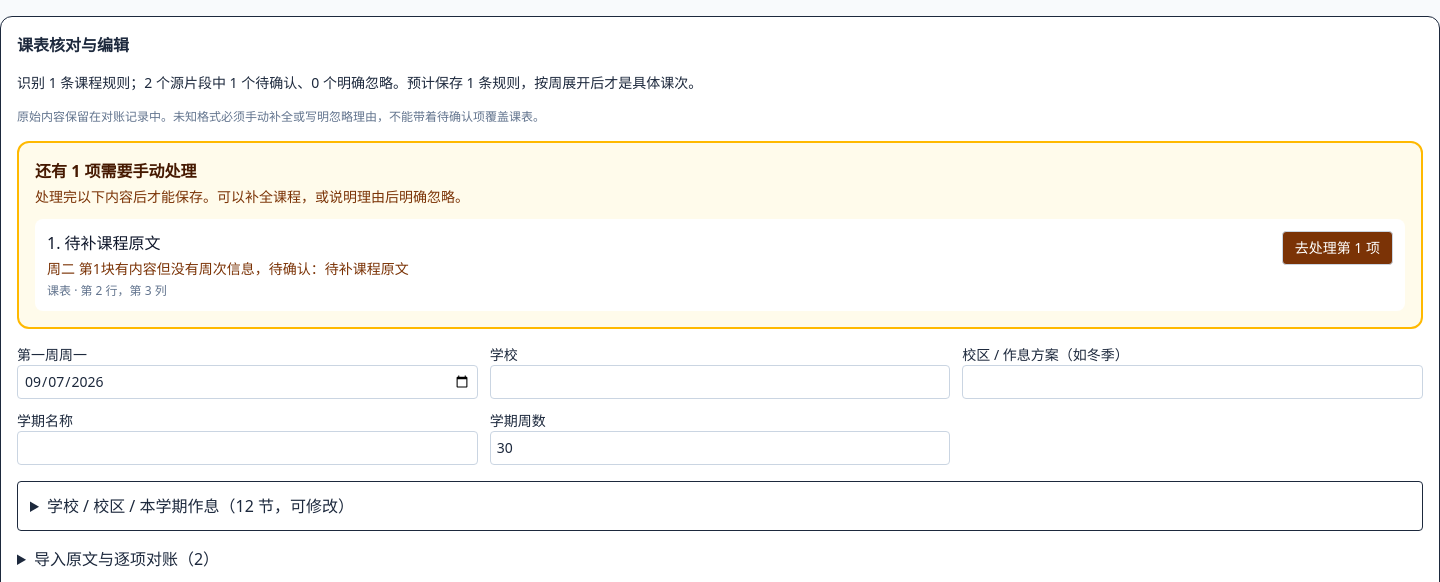
课程可以访问，而不只是数组返回成功 › 集中展示待处理事项，定位展开原文，补课自动展开编辑，忽略后更新计数
The image size is (1440, 582).
Expected: the element named "待处理事项" is shown, [17, 141, 1423, 329]
Expected: the heading "还有 1 项需要手动处理" is shown, [35, 160, 196, 182]
Click the button "去处理第 1 项": (1337, 248) [1282, 231, 1393, 265]
(page scrolled)
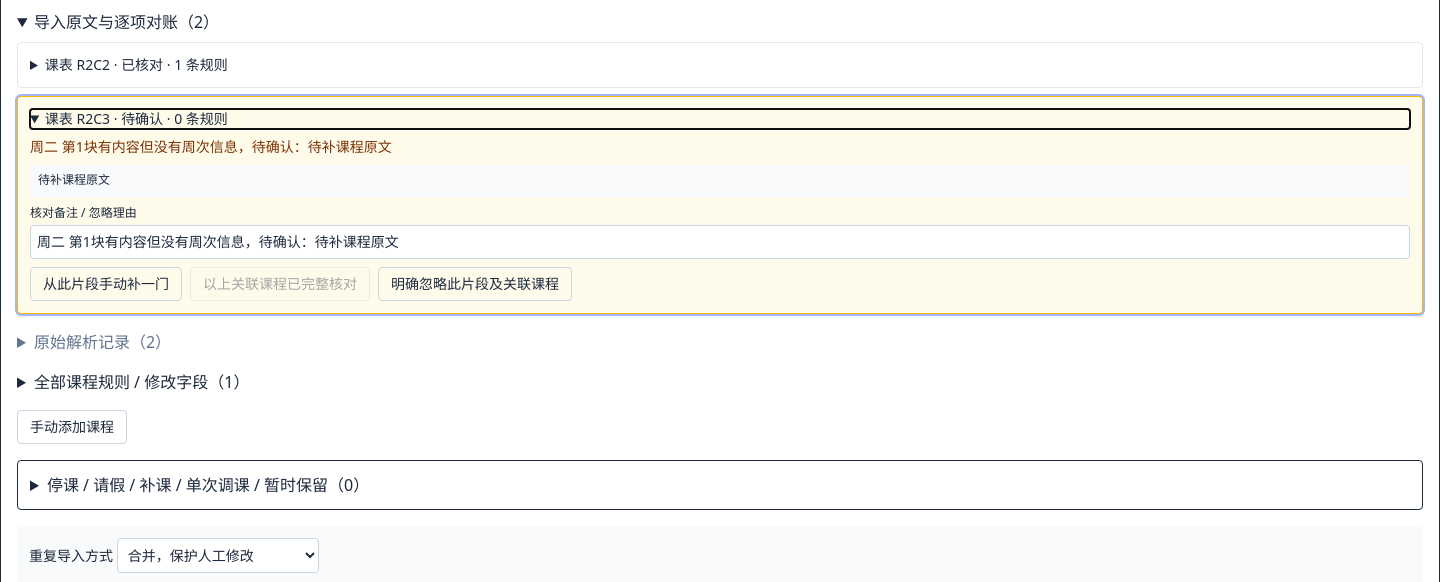
Now the element that starts with "待确认" shows "待补课程原文", box [38, 174, 110, 188]
Click the button "从此片段手动补一门": (106, 284) [30, 267, 182, 301]
(page scrolled)
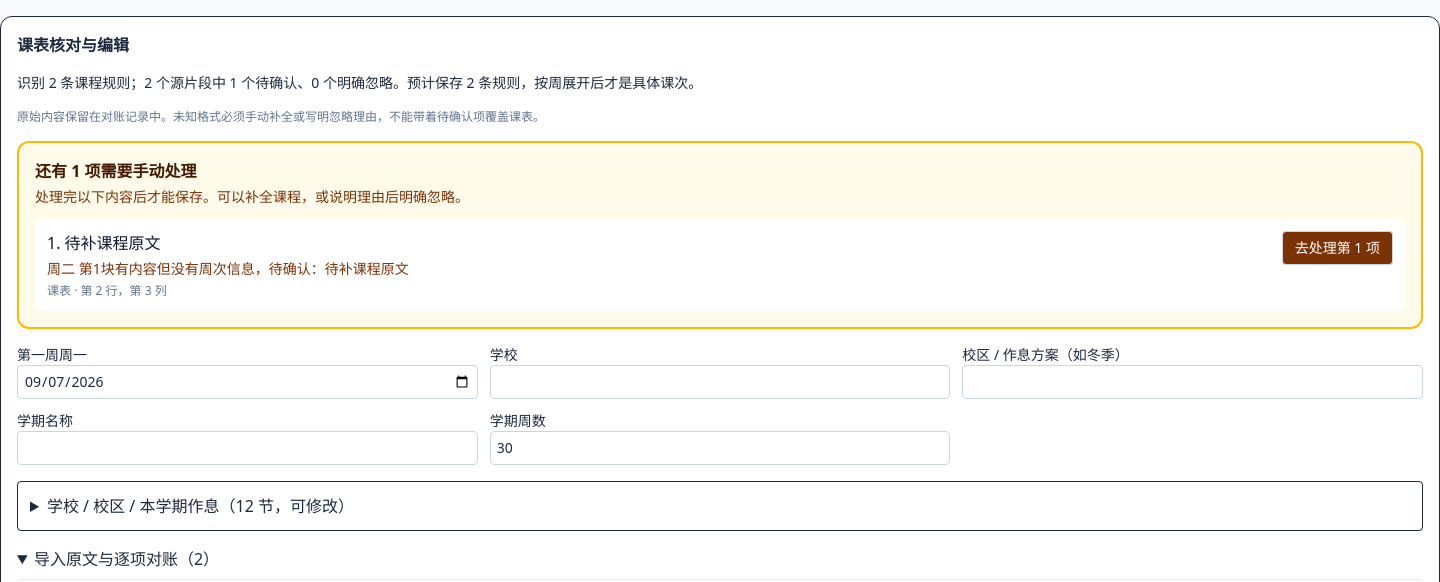
Click the button "去处理第 1 项": (1337, 248) [1282, 231, 1393, 265]
(page scrolled)
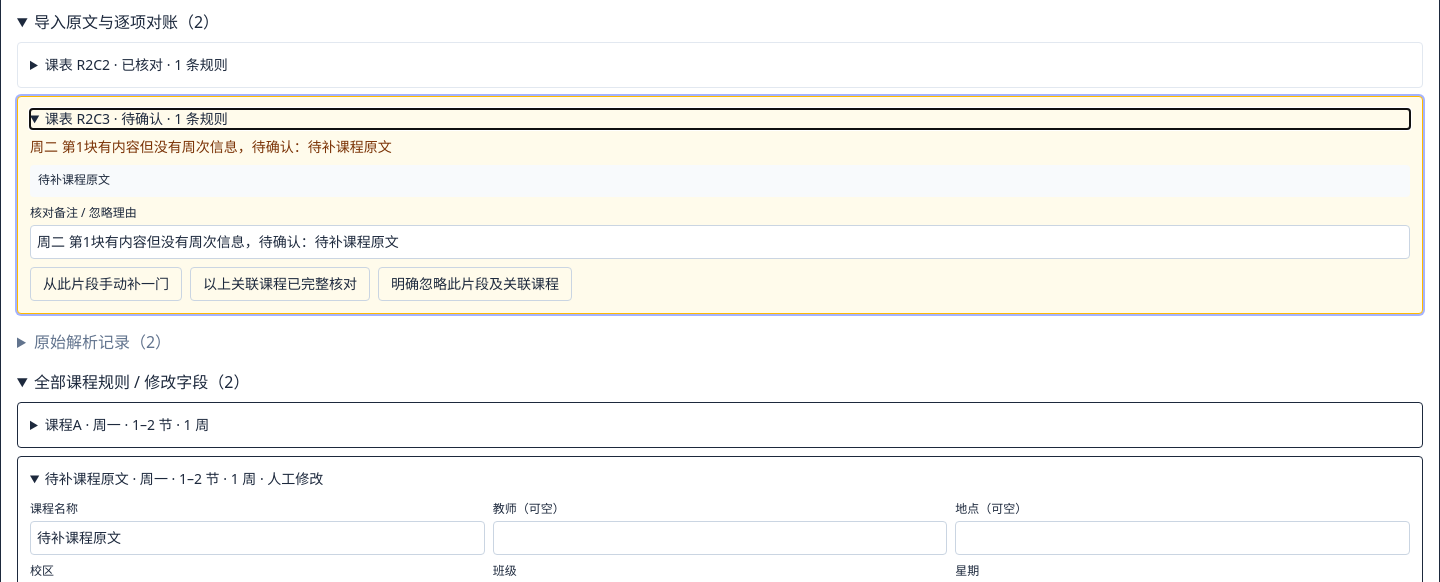
Click the button "明确忽略此片段及关联课程": (475, 284) [378, 267, 572, 301]
(page scrolled)
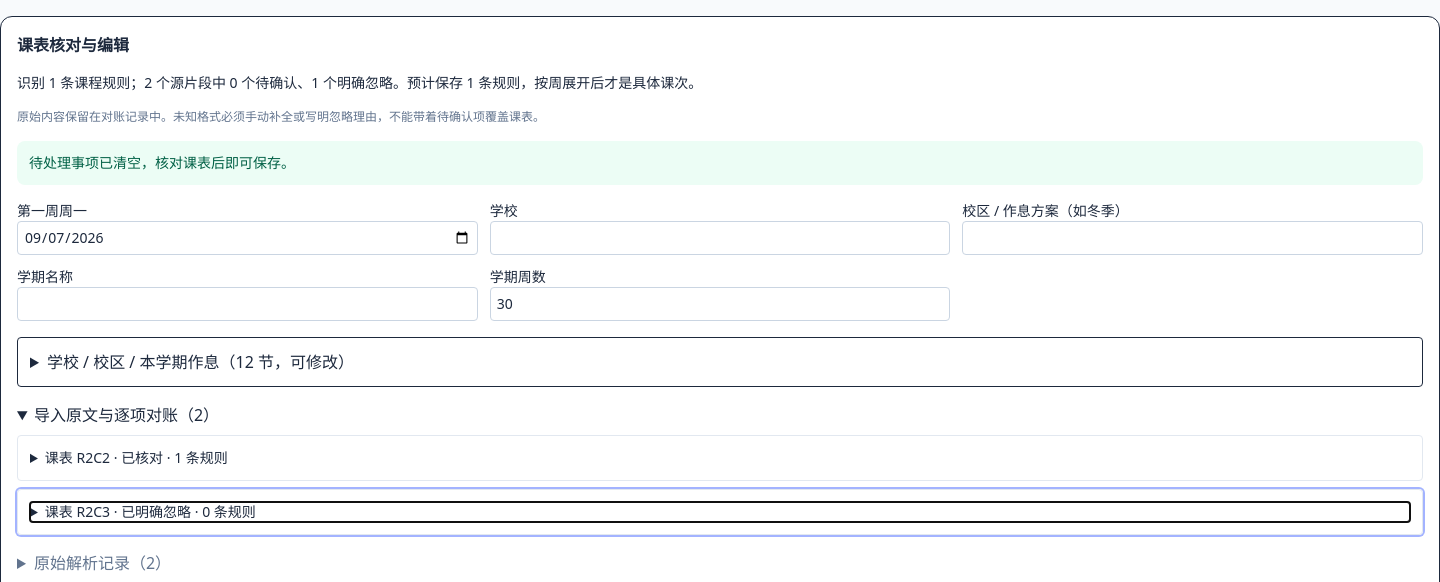
Now the text "待处理事项已清空，核对课表后即可保存。" is shown, box [17, 141, 1423, 185]
